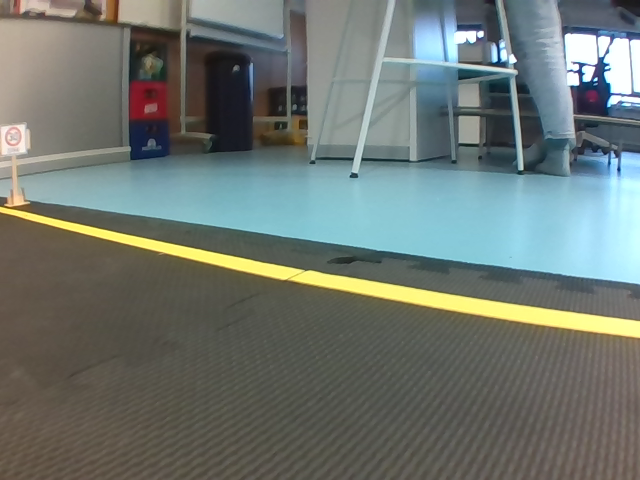30: (74, 115, 96, 137)
stop: (187, 58, 262, 132)
